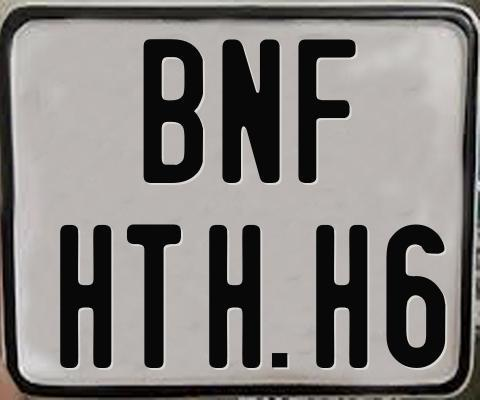6: (386, 223, 448, 373)
B: (140, 37, 200, 181)
F: (298, 38, 359, 182)
H: (314, 222, 369, 370), (60, 224, 111, 370), (207, 222, 258, 368)
N: (220, 38, 279, 182)
T: (124, 222, 183, 371)
